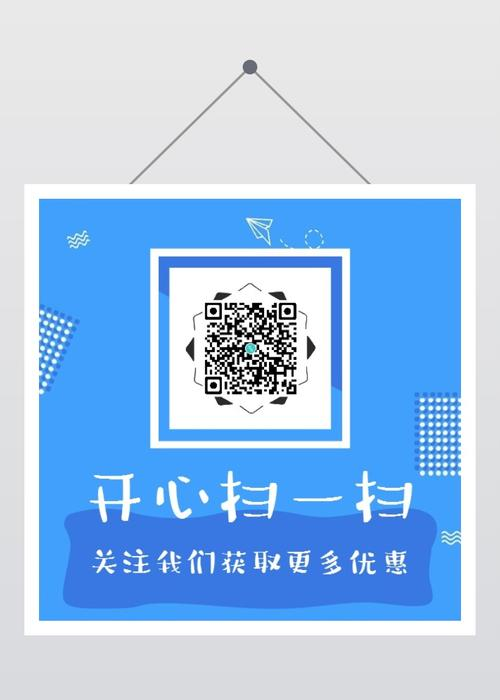QRCode: (203, 298, 300, 398)
